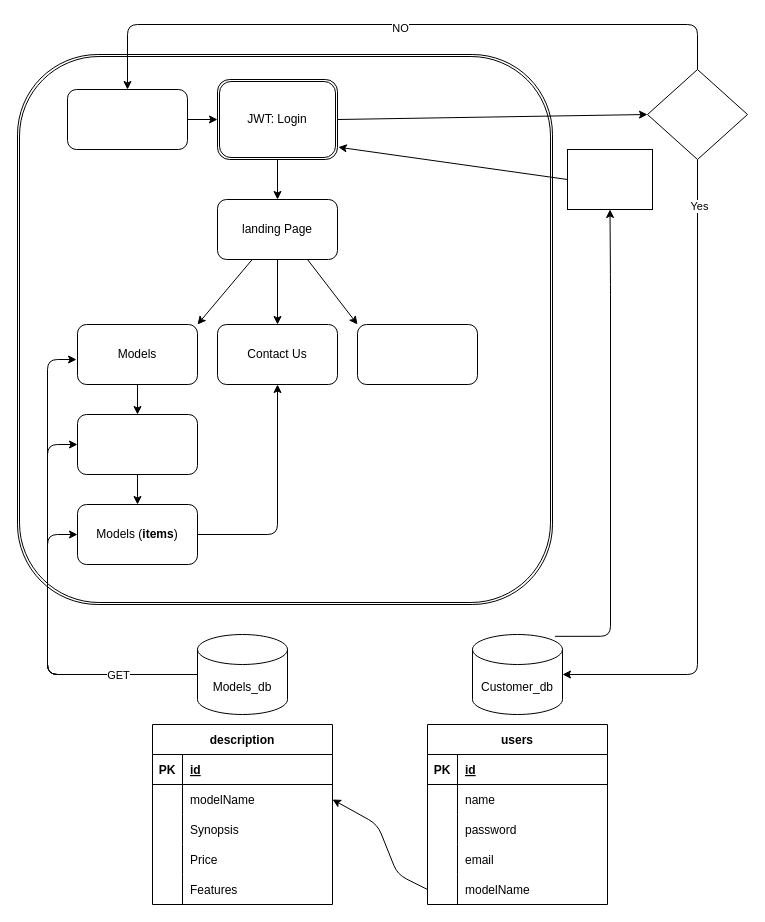
The diagram is 765 pixels wide and 922 high, and some of its shapes have lost their labels. Each missing label, with the centre of its shape:
"About Us" goes at (x=417, y=354).
"email/ password accurate" goes at (x=697, y=114).
"Invalid login" goes at (x=127, y=119).
"Models ( List )" goes at (x=137, y=444).
"token" goes at (x=609, y=179).
